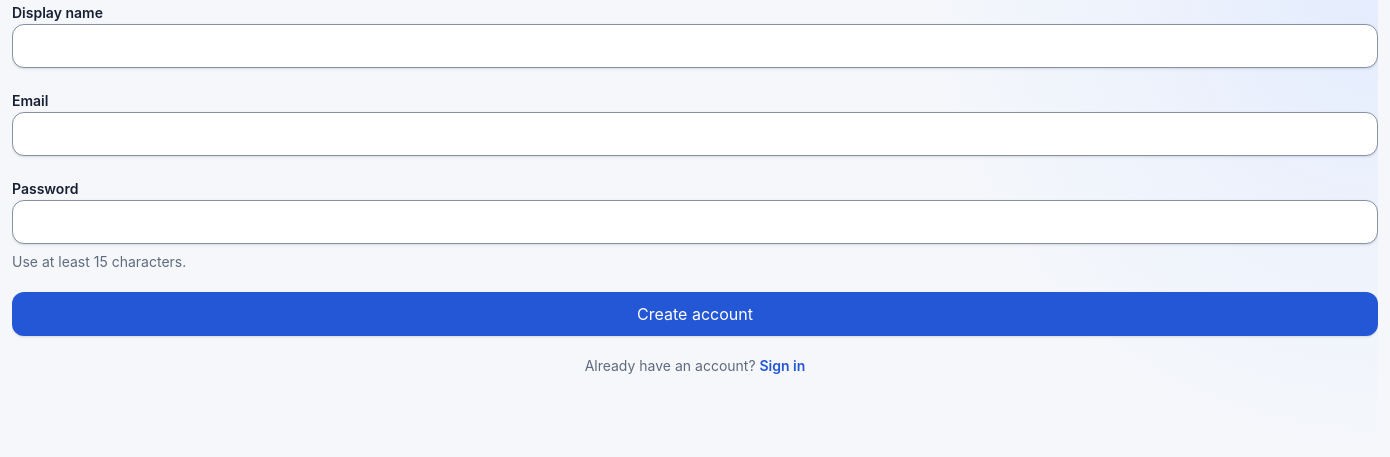
it: RegisterForm › shows a safe rate-limit error without bucket details
Type "user@example.com" into the field labelled "Email" at x=695, y=134, box [12,112,1378,156]
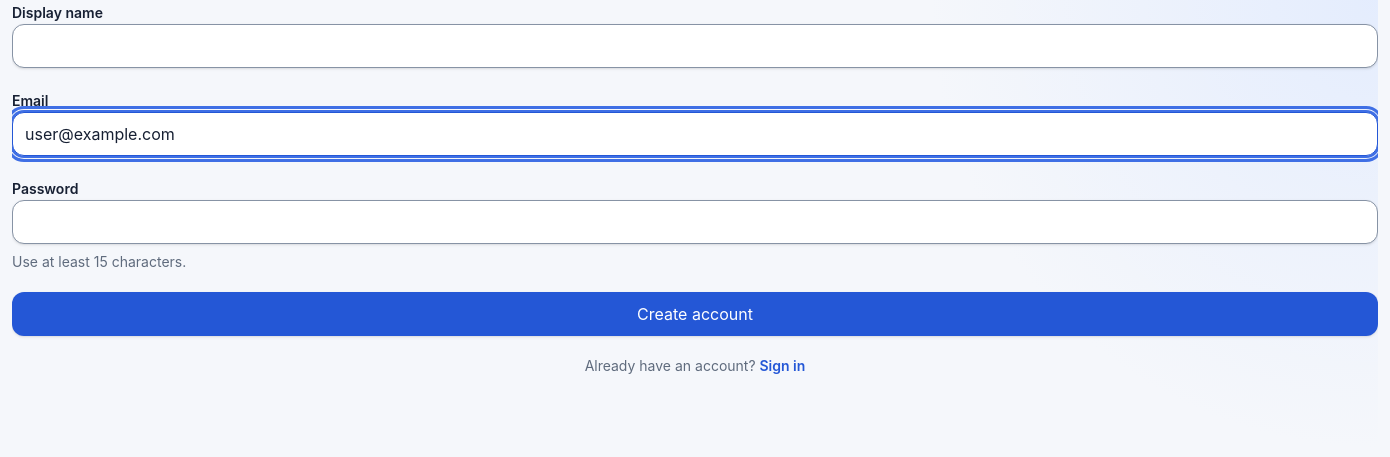
Type "123456789012345" into the password field labelled "Password" at x=695, y=222, box [12,200,1378,244]
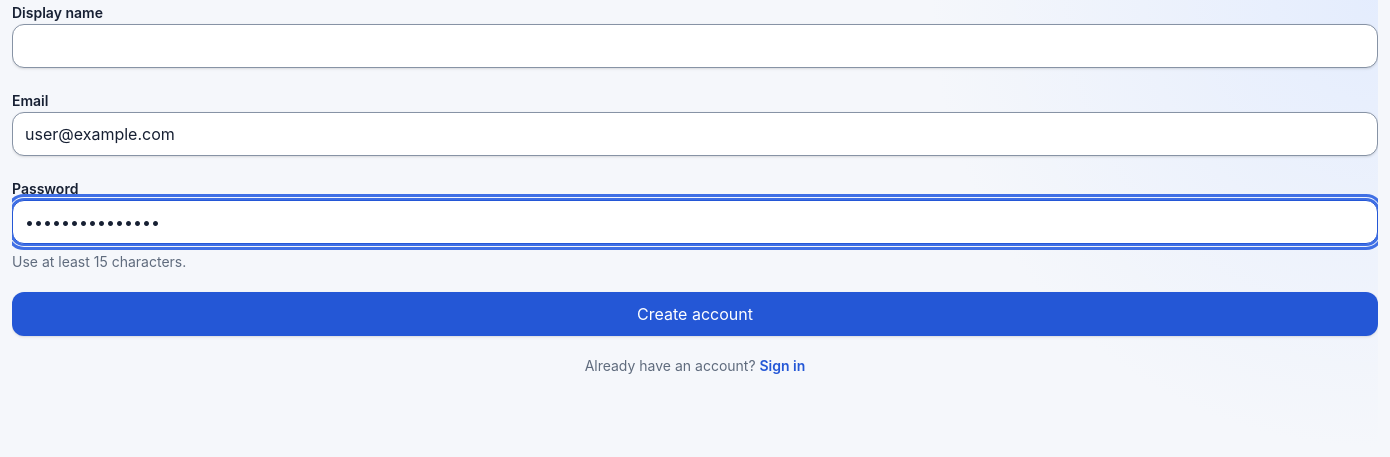
Click the button "Create account" at x=695, y=314, box [12,292,1378,336]
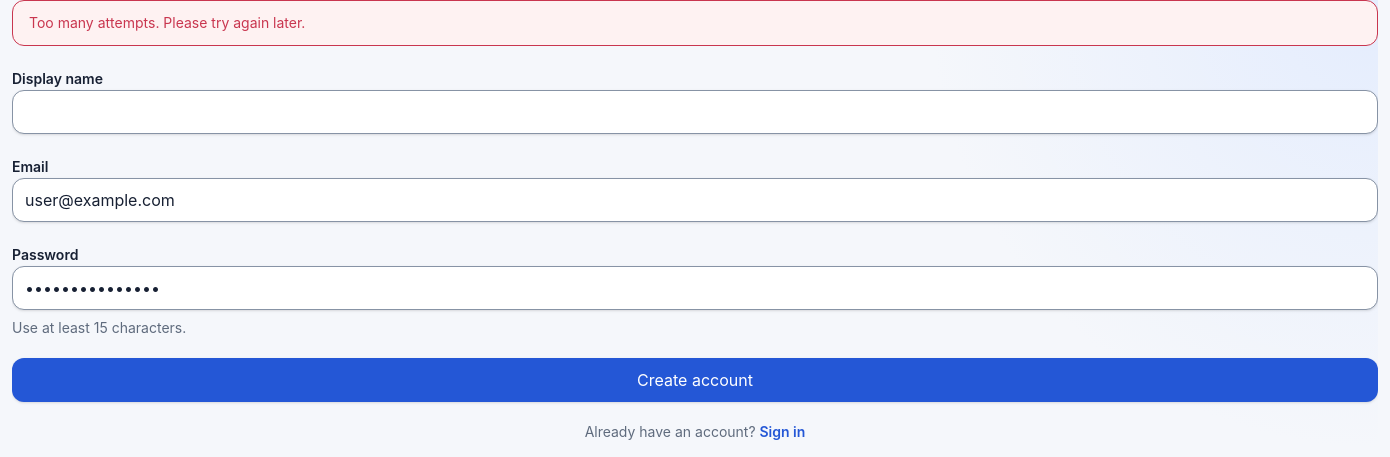
Result: the message reads "Too many attempts. Please try again later." at [29,14,305,31]
